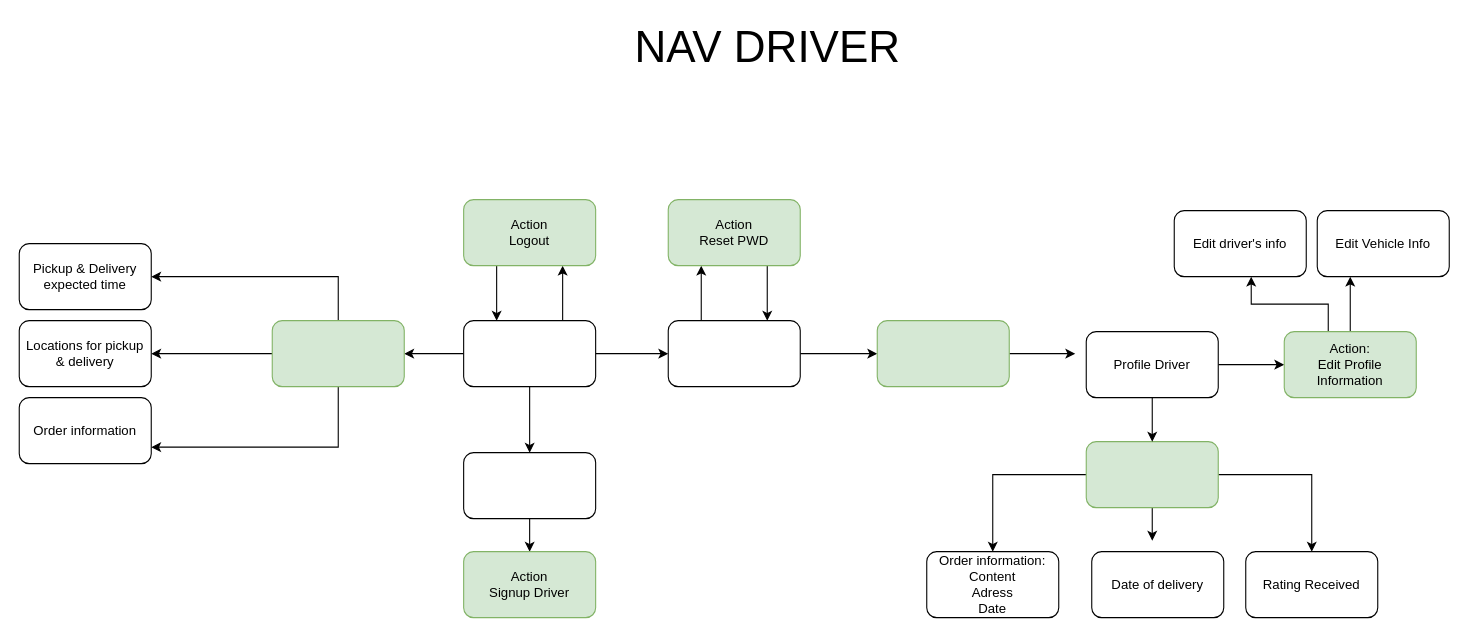
This 1469x637 diagram has some shape labels left out. Here are the shapes that lost their labels. From the top down, the box of each, then its label:
(271, 320, 404, 387): Action: Notification
(463, 320, 596, 387): Main Page
(667, 320, 800, 387): Login
(876, 320, 1009, 387): Action Login
(463, 452, 596, 519): Signup
(1085, 441, 1218, 508): Action: View Delivery History
